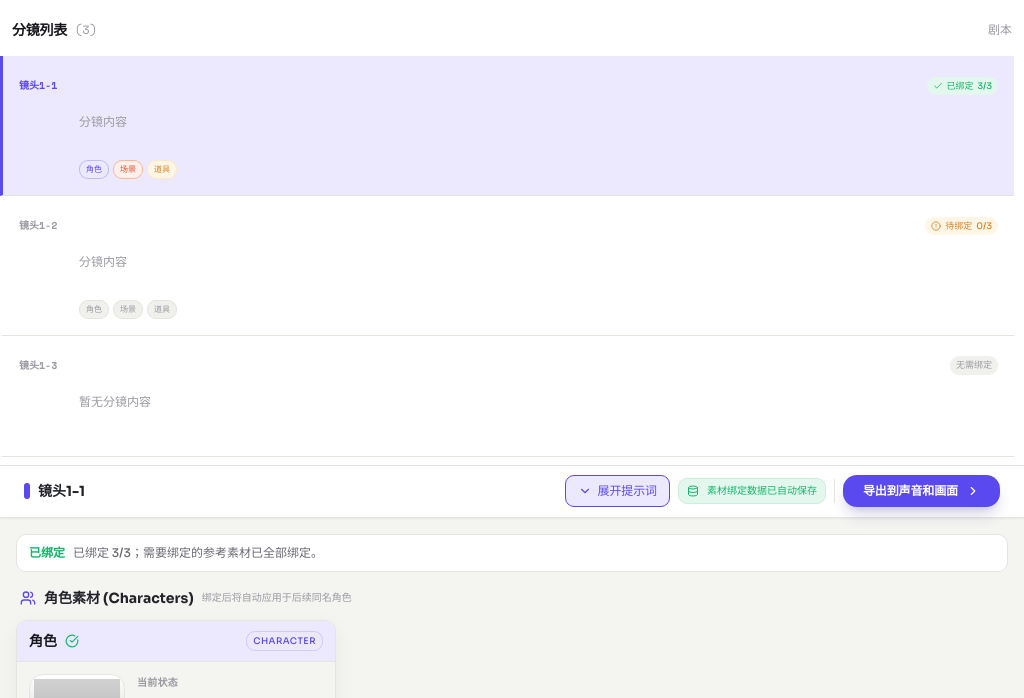
Test case: MaterialPage binding status › keeps each shot status separate and does not treat a generated image as material binding
Expected: the element with test id "material-binding-status" reads "已绑定 3/3", left=926, top=77, right=998, bottom=95
Expected: the element with test id "material-binding-status" reads "待绑定 0/3", left=925, top=217, right=998, bottom=235
Click the button with test id "material-shot-card". click: [38, 225]
box: left=0, top=196, right=1014, bottom=336
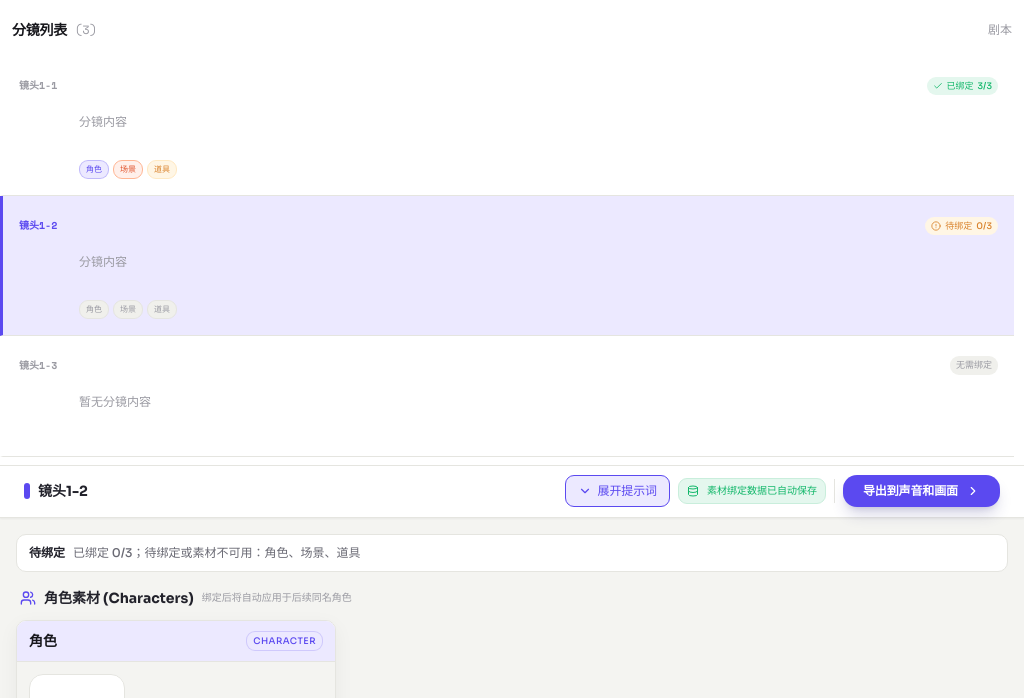
Result: the message with test id "material-binding-summary" shows "已绑定 0/3" at left=73, top=545, right=360, bottom=560
Result: the icon labelled "角色已绑定" is gone
Click the button with test id "material-shot-card". click: [38, 365]
box: left=0, top=336, right=1014, bottom=457
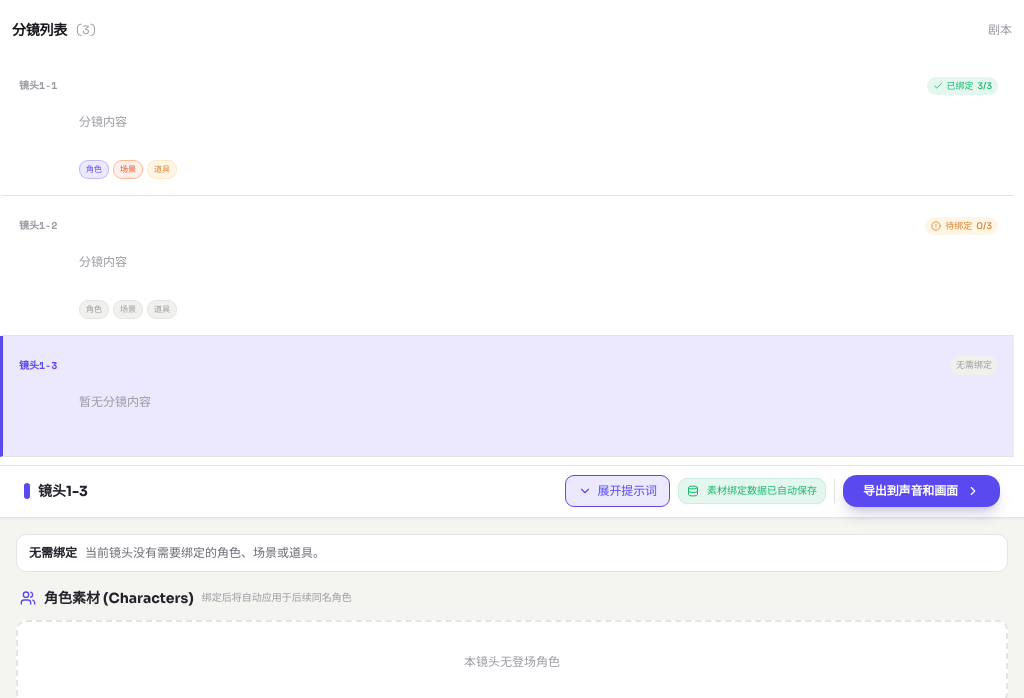
Result: the message with test id "material-binding-summary" shows "当前镜头没有需要绑定的角色、场景或道具" at left=85, top=545, right=325, bottom=560
